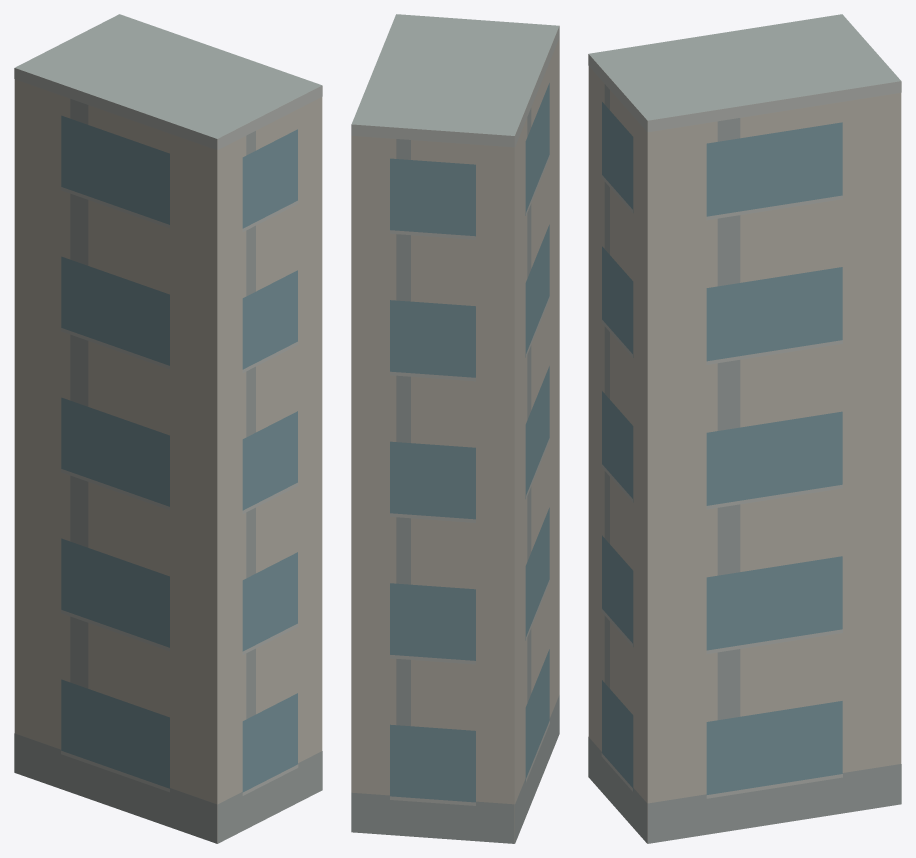
Rendered from survey-upis-32867489.glb.
3 views of the same model, side by side, from view 1: azimuth 30°, elevation 25°; view 2: azimuth 150°, elevation 25°; view 3: azimuth 270°, elevation 25° (orthographic). The views are drawn at different scales.
Visible parts, largest first — view 1: survey-upis-32867489.tmp; view 2: survey-upis-32867489.tmp; view 3: survey-upis-32867489.tmp.
Boxes of the visible parts, box(x1,y1,x2,y2) form: survey-upis-32867489.tmp: box(14, 14, 322, 843); survey-upis-32867489.tmp: box(351, 14, 559, 843); survey-upis-32867489.tmp: box(588, 14, 901, 843).
Size of the model in its own units: 4.84 by 15.25 by 5.99.
